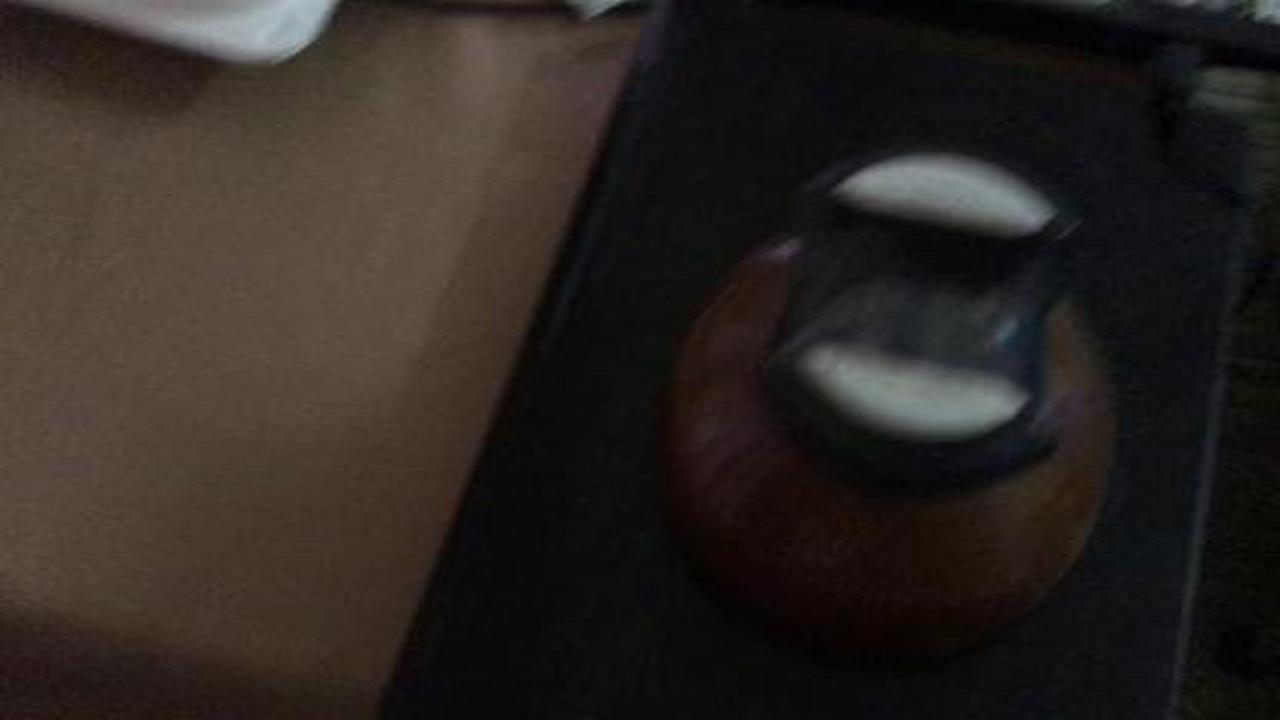insulator_pin: (637, 125, 1151, 663)
